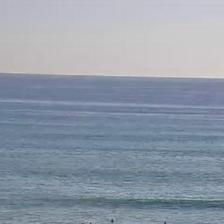surfer: (110, 218, 114, 224), (80, 222, 92, 223), (161, 221, 167, 223)
